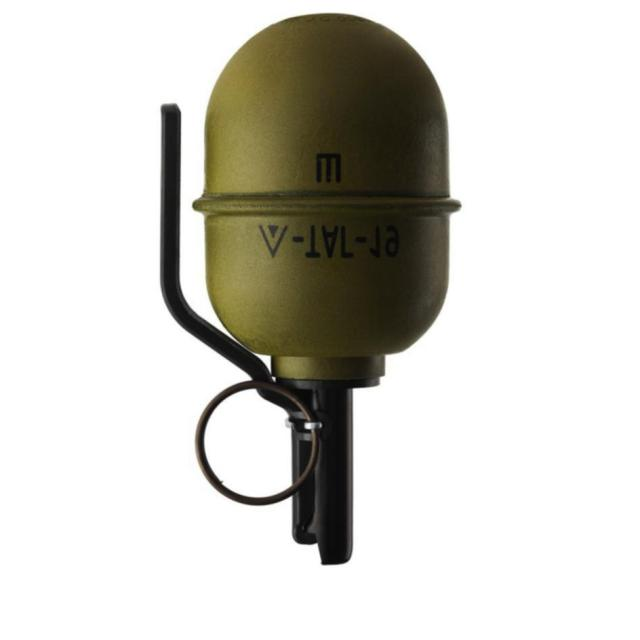grenade: (160, 15, 460, 567)
